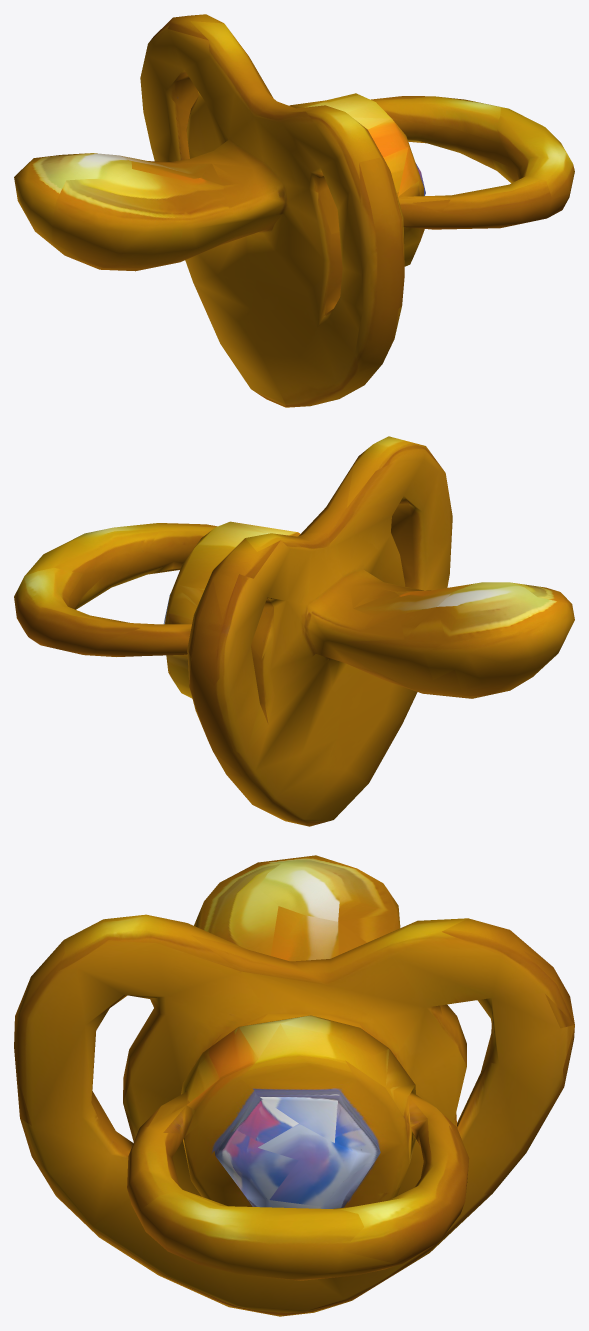
File: pacifier.fbx
3 views of the same model, one above another, from view 1: azimuth 30°, elevation 25°; view 2: azimuth 150°, elevation 25°; view 3: azimuth 270°, elevation 25° (orthographic). The views are drawn at different scales.
Parts seen in each view (by area): view 1: tripo_node_b5c74a6e-375f-47af-8cb8-1c9f4c3b3d42; view 2: tripo_node_b5c74a6e-375f-47af-8cb8-1c9f4c3b3d42; view 3: tripo_node_b5c74a6e-375f-47af-8cb8-1c9f4c3b3d42.
Boxes of the visible parts, x1,y1,x2,y2 form: tripo_node_b5c74a6e-375f-47af-8cb8-1c9f4c3b3d42: (14, 14, 574, 407); tripo_node_b5c74a6e-375f-47af-8cb8-1c9f4c3b3d42: (14, 436, 574, 826); tripo_node_b5c74a6e-375f-47af-8cb8-1c9f4c3b3d42: (14, 855, 574, 1316).
Size of the model in its own units: 1 by 0.596 by 0.7744.
1 material, 1 textured.
